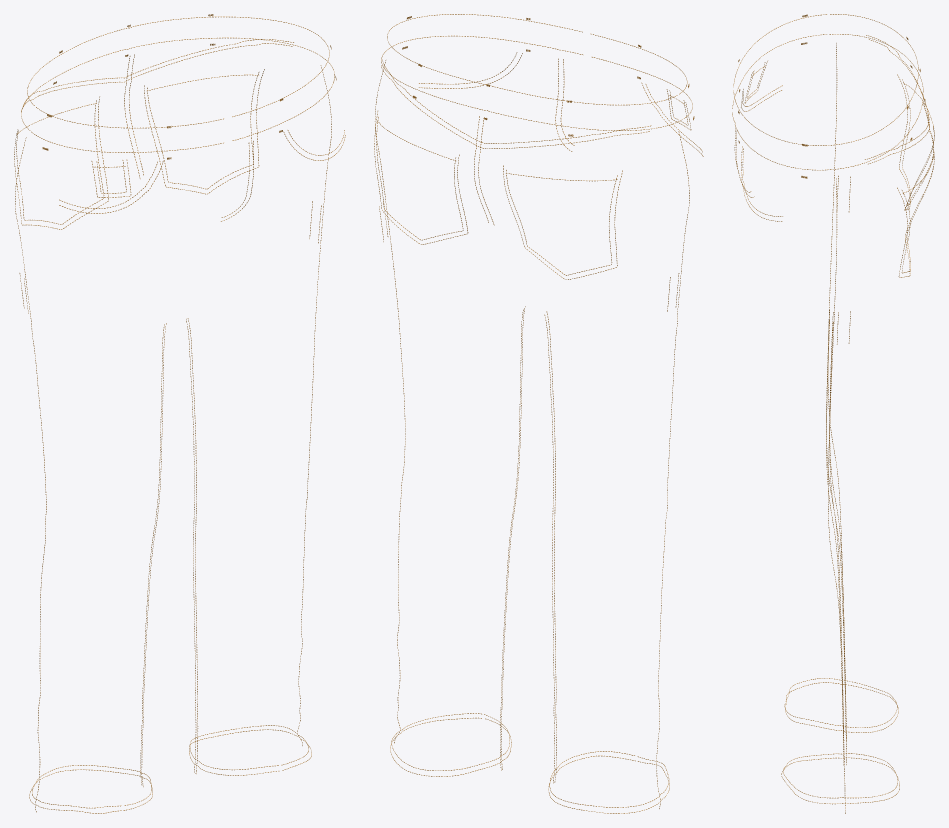
The model's file is 22_vaquero_slim_costuras.glb.
The picture shows the model from 3 angles, left to right: view 1: azimuth 30°, elevation 25°; view 2: azimuth 150°, elevation 25°; view 3: azimuth 270°, elevation 25°; orthographic projection. The views are drawn at different scales.
Visible parts, largest first — view 1: stitch; view 2: stitch; view 3: stitch.
Boxes of the visible parts, x1,y1,x2,y2 form: stitch: (14, 14, 345, 813); stitch: (374, 14, 703, 813); stitch: (732, 14, 934, 813).
Bounding box in the file's own units: 0.424 × 0.929 × 0.2487.
